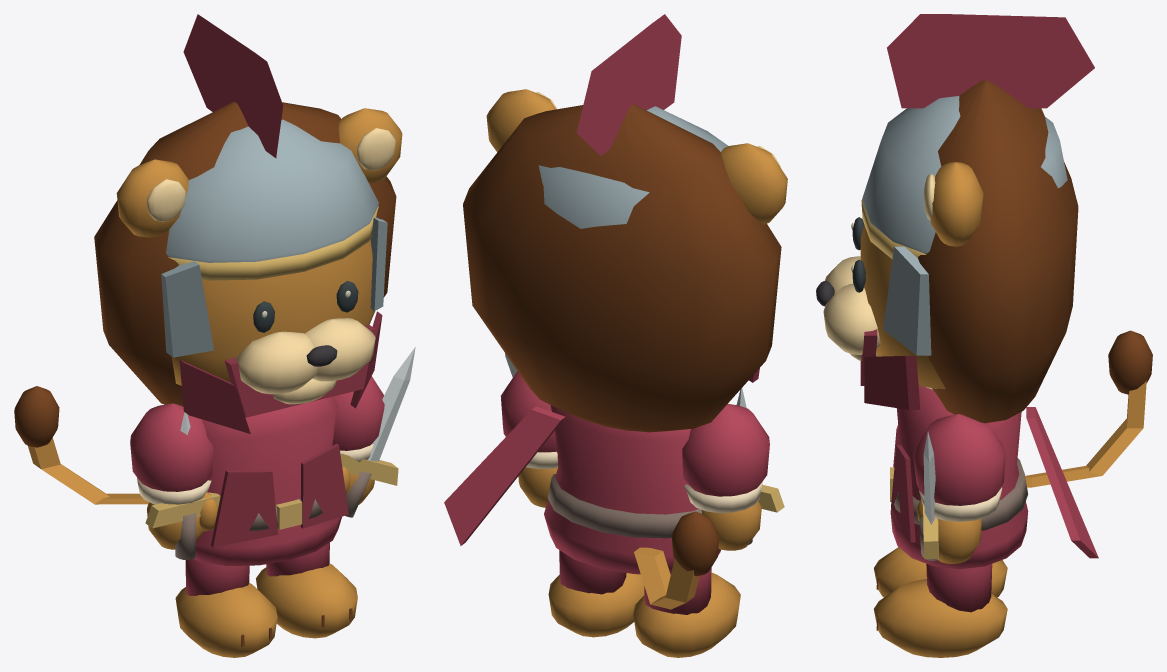
The model's file is assassin.glb.
3 renders of one model, left to right at view 1: azimuth 30°, elevation 25°; view 2: azimuth 150°, elevation 25°; view 3: azimuth 270°, elevation 25°, orthographic. The views are drawn at different scales.
Visible parts, largest first — view 1: Regional helmet, Lion full mane, Short folded tunic, Animal cheek head, Roman horsehair fan, Puff sleeve, Soft animal paw, Soft animal paw.001, Coat fold, Roman cheekplate, Lion muzzle, Helmet brow band (+24 smaller); view 2: Lion full mane, Short folded tunic, Roman horsehair fan, Puff sleeve, Long scarf tail, Regional helmet, Soft animal paw, Soft animal paw.001, Lion round ear, Broad leather belt, Curved animal tail, Lion tail tuft (+8 smaller); view 3: Lion full mane, Roman horsehair fan, Regional helmet, Soft animal paw.001, Short folded tunic, Puff sleeve.001, Roman cheekplate.001, Lion round ear.001, Animal cheek head, Hood cheek cowl R, Lion muzzle.001, Curved animal tail (+13 smaller).
Boxes of the visible parts, x1,y1,x2,y2 form: Regional helmet: [166, 119, 378, 262]; Lion full mane: [94, 102, 396, 406]; Short folded tunic: [193, 396, 341, 565]; Animal cheek head: [171, 239, 375, 385]; Roman horsehair fan: [183, 14, 283, 158]; Puff sleeve: [130, 403, 213, 491]; Soft animal paw: [175, 583, 277, 657]; Soft animal paw.001: [256, 563, 357, 638]; Coat fold: [211, 470, 278, 547]; Roman cheekplate: [161, 261, 213, 357]; Lion muzzle: [236, 331, 317, 394]; Helmet brow band: [168, 206, 378, 280]; Lion full mane: [463, 104, 781, 432]; Short folded tunic: [544, 405, 720, 574]; Roman horsehair fan: [576, 14, 681, 155]; Puff sleeve: [682, 404, 769, 496]; Long scarf tail: [444, 406, 565, 545]; Regional helmet: [538, 106, 728, 228]; Soft animal paw: [633, 572, 740, 657]; Soft animal paw.001: [548, 573, 644, 637]; Lion round ear: [720, 143, 787, 224]; Broad leather belt: [548, 474, 701, 538]; Curved animal tail: [634, 547, 699, 609]; Lion tail tuft: [671, 511, 719, 576]; Lion full mane: [918, 80, 1078, 423]; Roman horsehair fan: [887, 14, 1094, 108]; Regional helmet: [862, 96, 1067, 253]; Soft animal paw.001: [874, 579, 1007, 657]; Short folded tunic: [890, 385, 1028, 569]; Puff sleeve.001: [913, 414, 1005, 505]; Roman cheekplate.001: [883, 246, 931, 355]; Lion round ear.001: [930, 162, 983, 246]; Animal cheek head: [860, 224, 945, 389]; Hood cheek cowl R: [864, 356, 920, 409]; Lion muzzle.001: [823, 283, 880, 354]; Curved animal tail: [1025, 380, 1146, 487].
Bounding box in the file's own units: 0.985 × 1.82 × 0.905.
